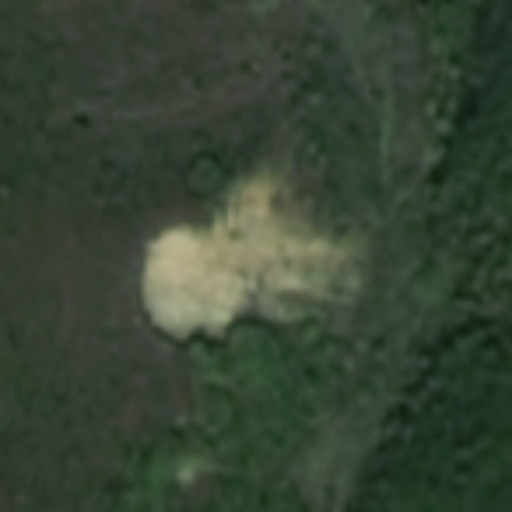landslide: (139, 178, 350, 341)
